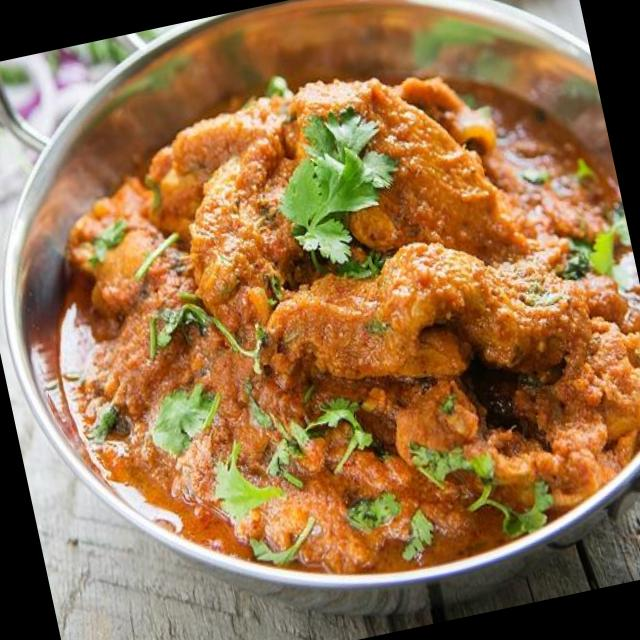chicken: (15, 53, 640, 622)
